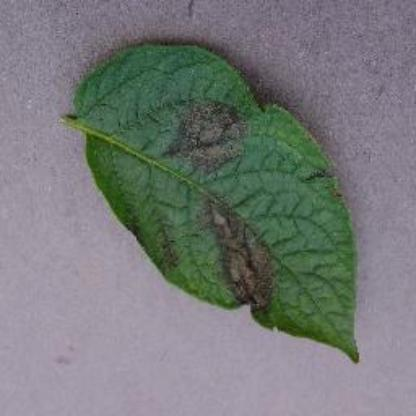Late-Blight: (60, 31, 378, 371)
